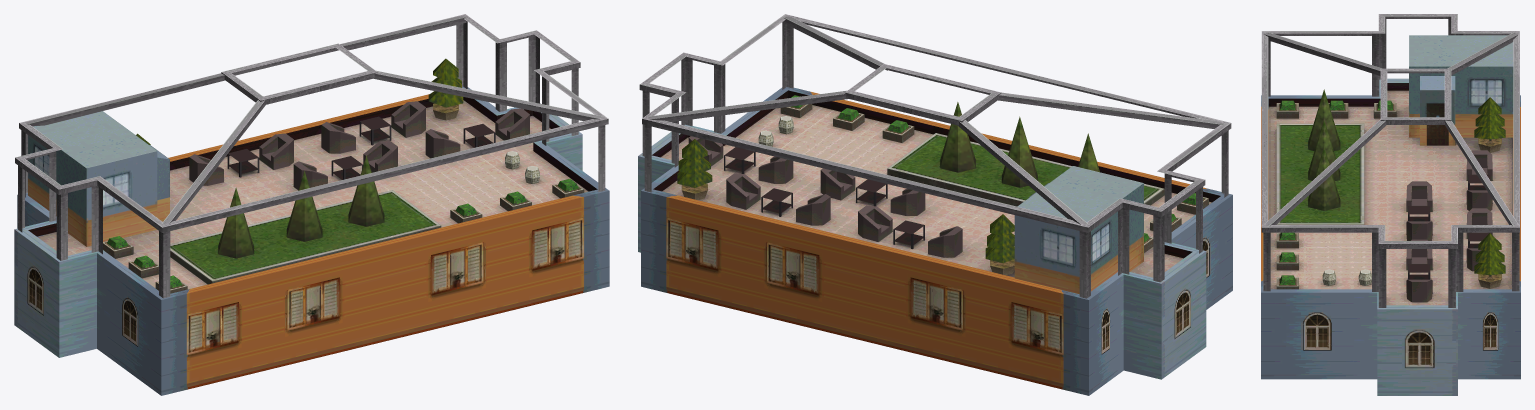
Rendered from kafeiting.FBX.
3 renders of one model, left to right at view 1: azimuth 30°, elevation 25°; view 2: azimuth 150°, elevation 25°; view 3: azimuth 270°, elevation 25°, orthographic. The views are drawn at different scales.
Visible parts, largest first — view 1: kafeiting; view 2: kafeiting; view 3: kafeiting.
Boxes of the visible parts, box(x1,y1,x2,y2) form: kafeiting: box(14, 14, 609, 395); kafeiting: box(638, 14, 1232, 395); kafeiting: box(1261, 14, 1520, 395).
Size of the model in its own units: 2016 by 759 by 960.
